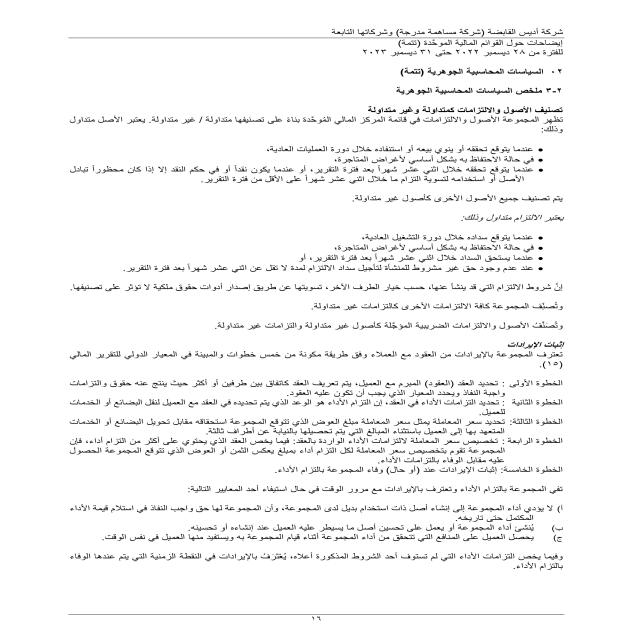notes: (392, 40, 564, 49)
text: (45, 105, 573, 594)
